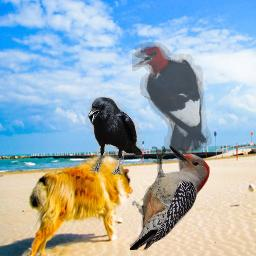Crow: (87, 97, 142, 175)
Woodpecker: (132, 41, 212, 155), (130, 146, 210, 250)
